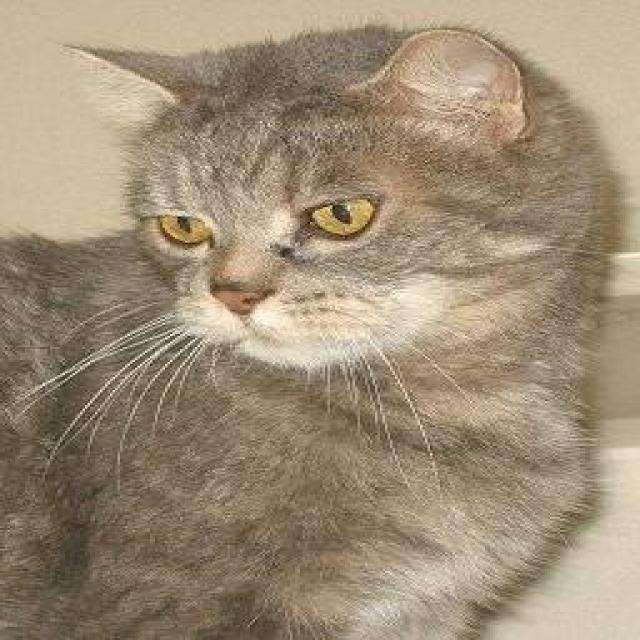cat: (0, 23, 625, 638)
